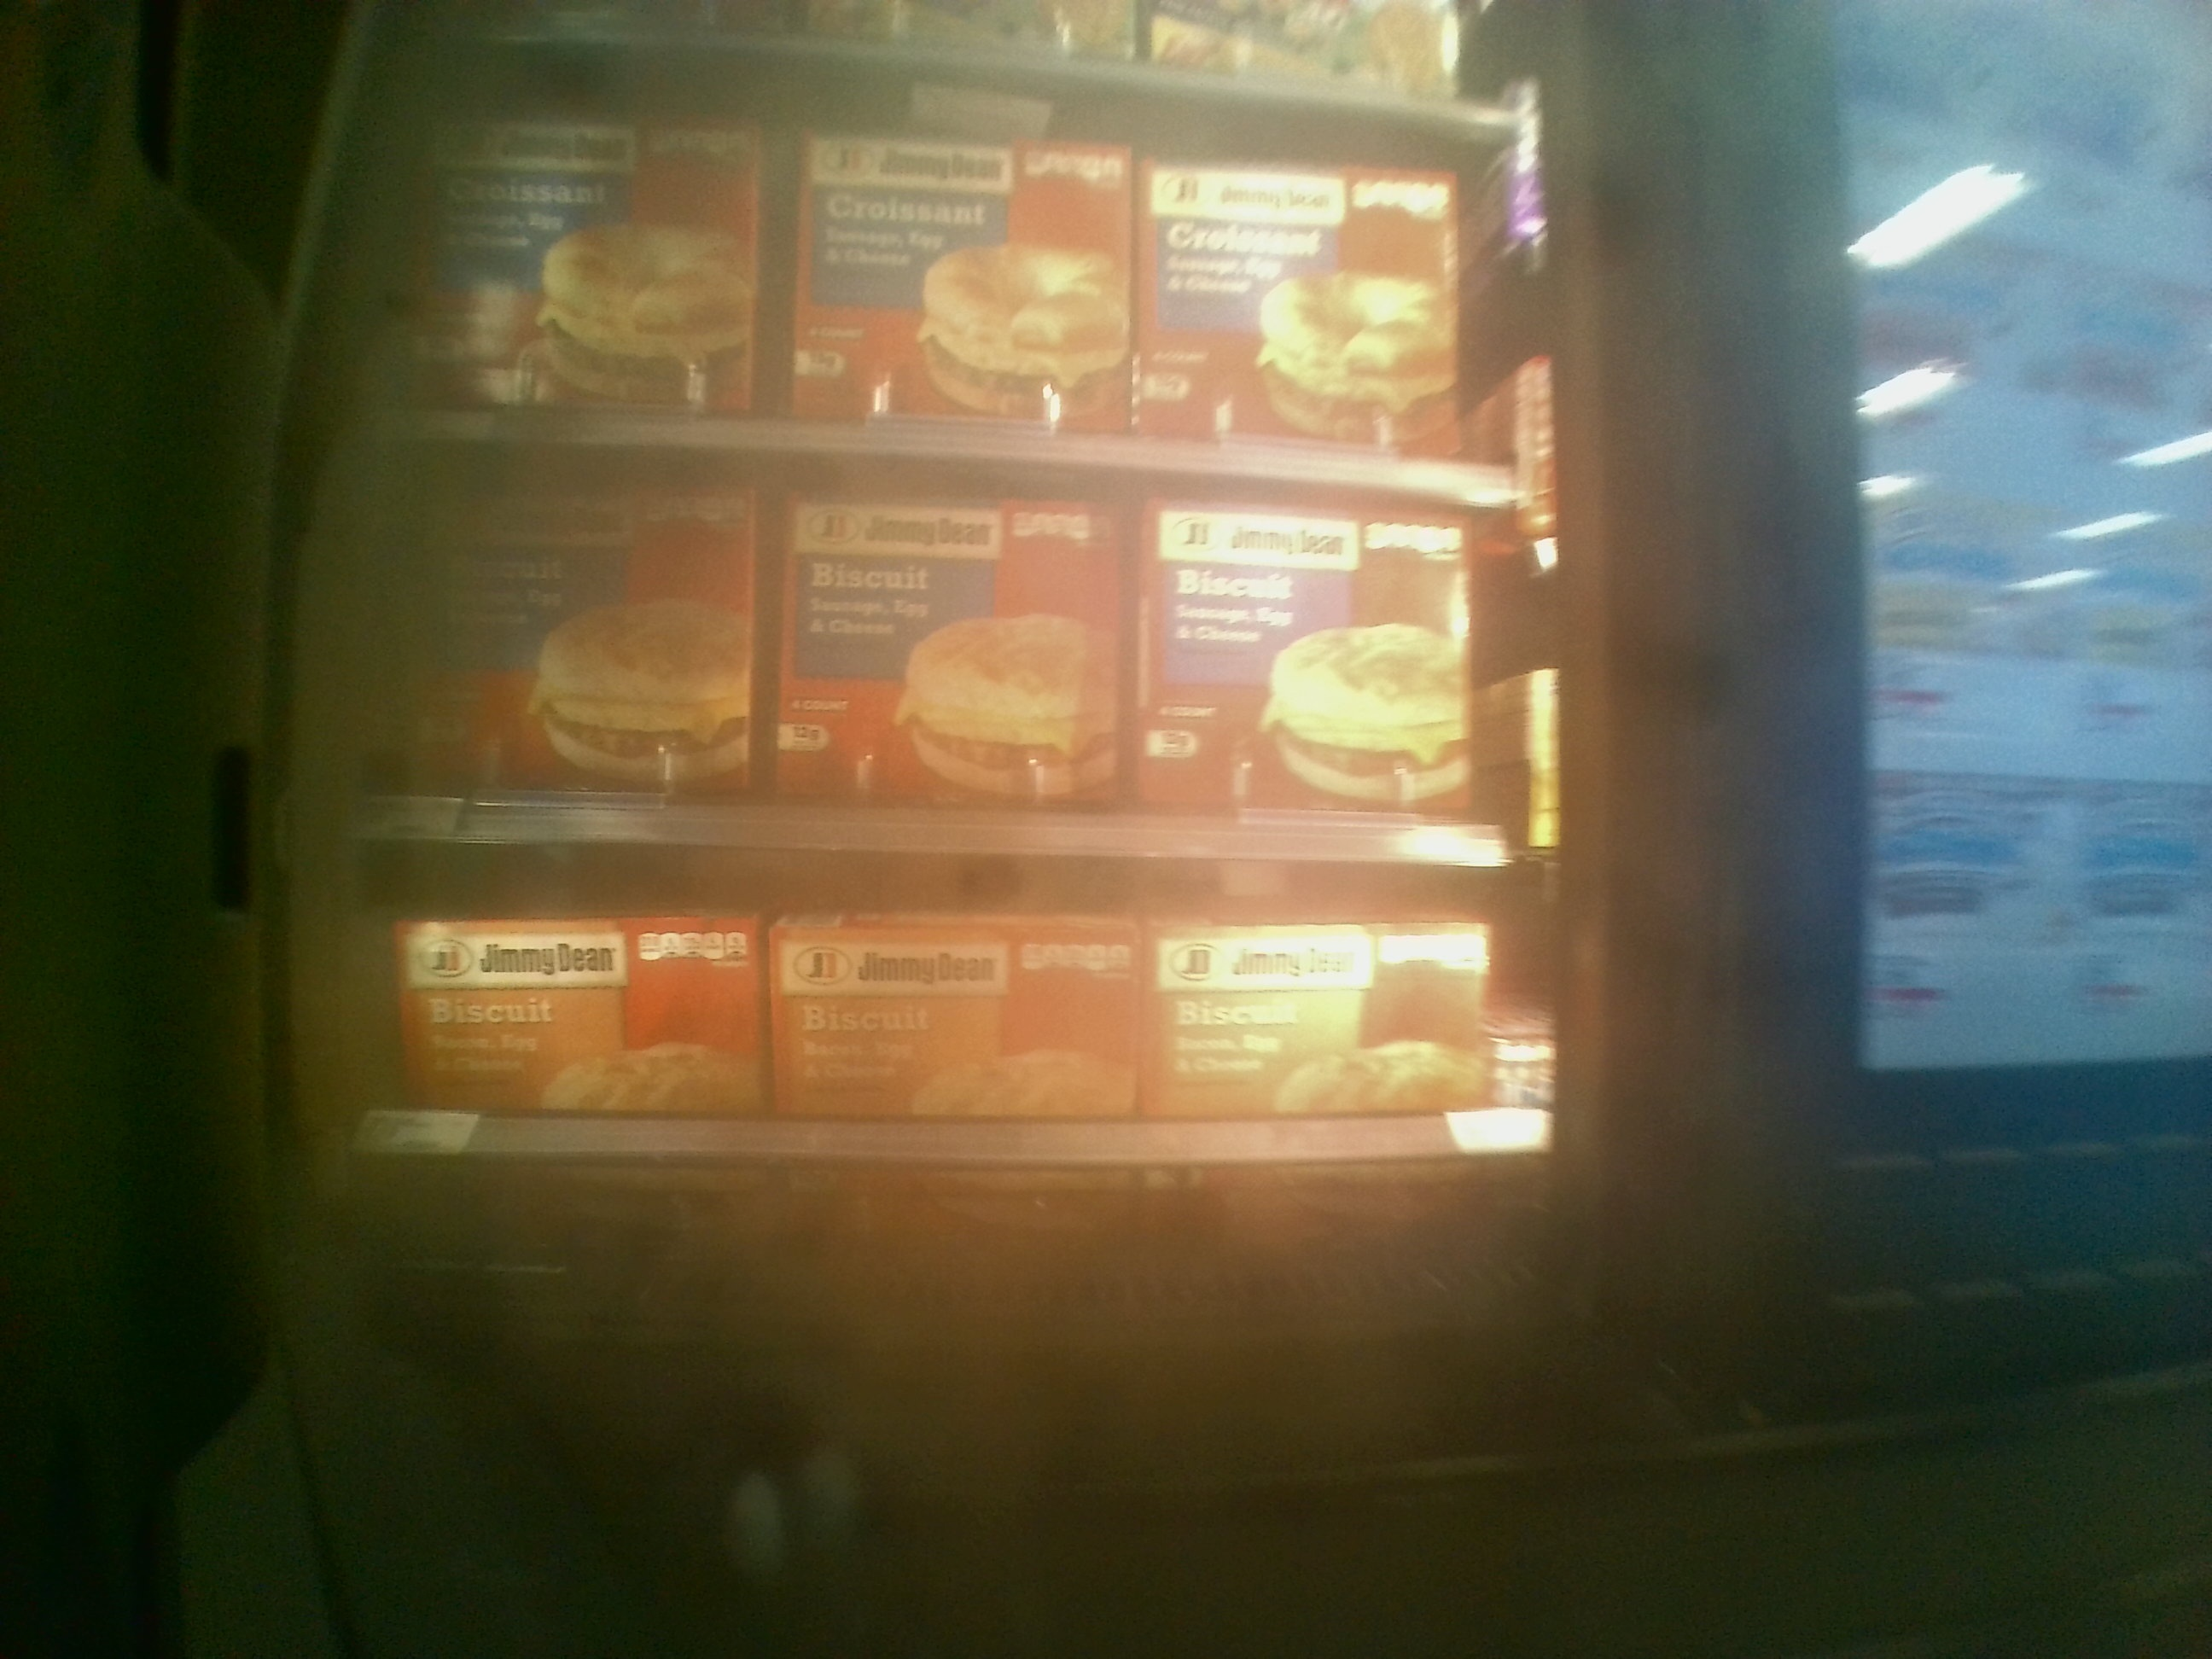shelf: (355, 828, 1555, 1328), (355, 430, 1529, 852)
